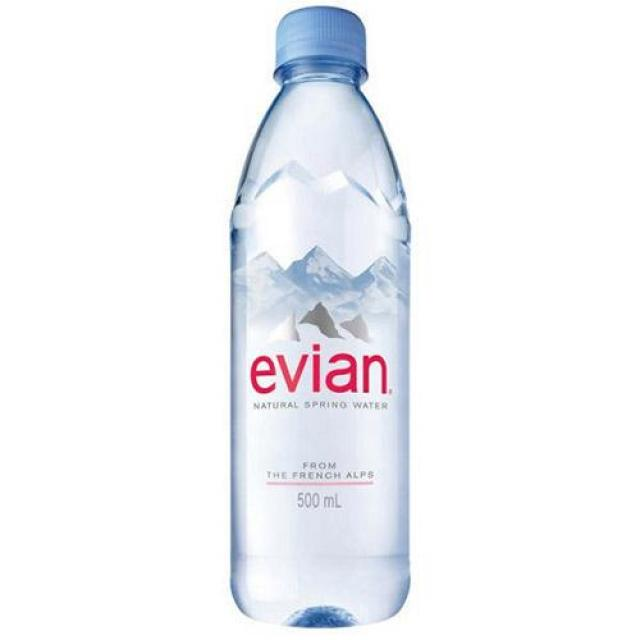plastic_bottle: (233, 5, 411, 631)
